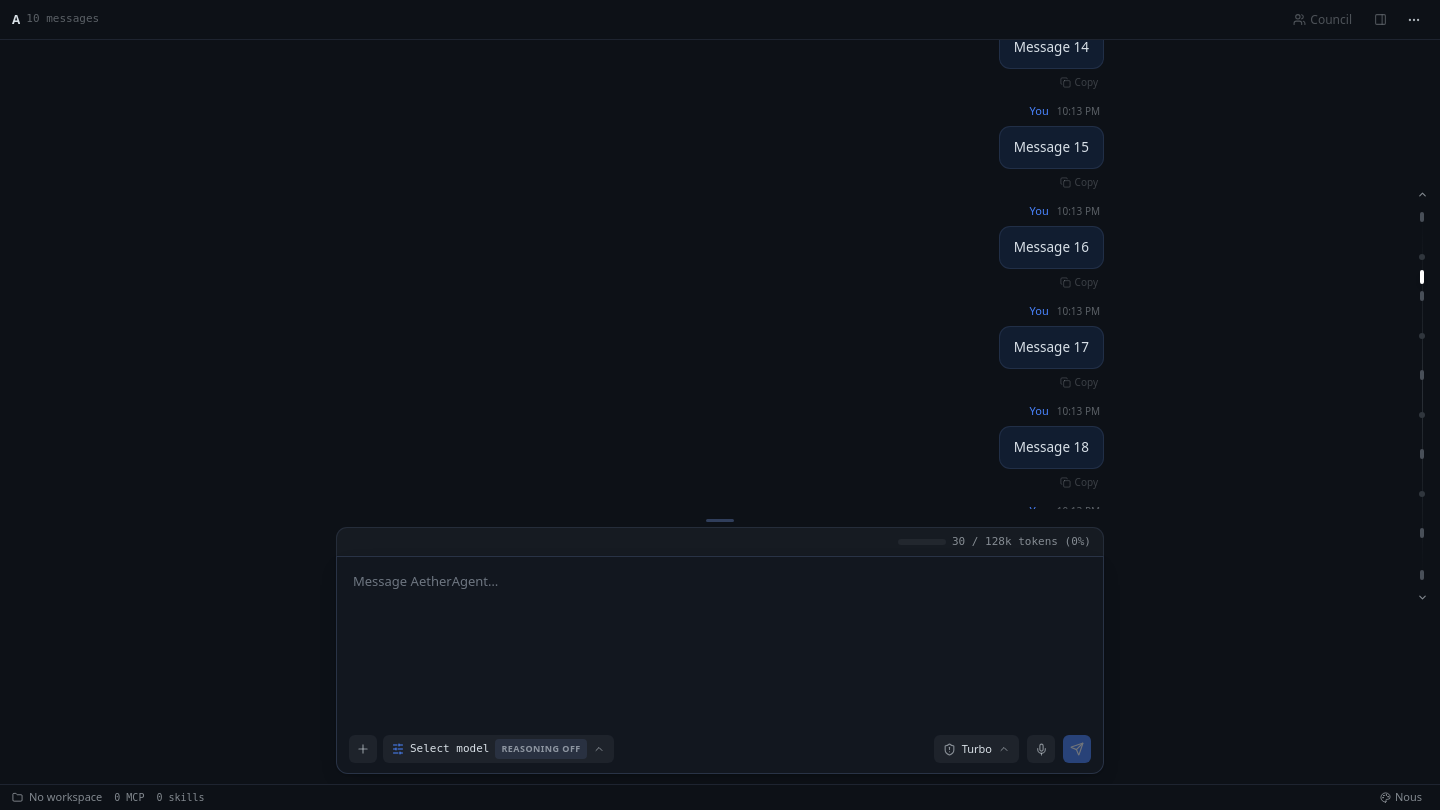
Test: opens floating search bar on Ctrl+F and navigates search matches
(page scrolled)
Press f
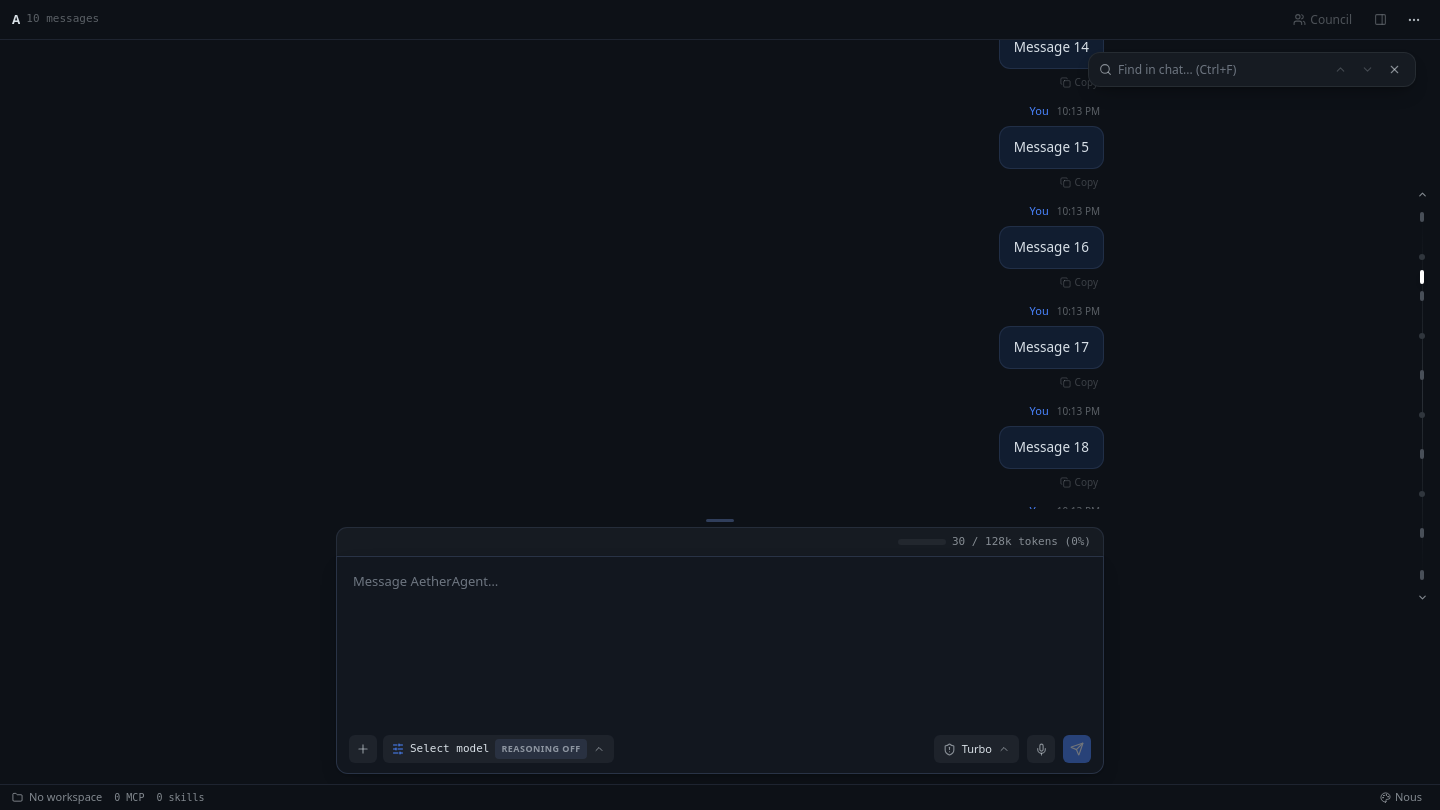
Check: the element with test id "in-chat-search-bar" is shown, box [1088,52,1416,87]
Type "Message 12" into the field with placeholder "Find in chat... (Ctrl+F)" at {"x": 1214, "y": 70}, box [1118,62,1310,78]
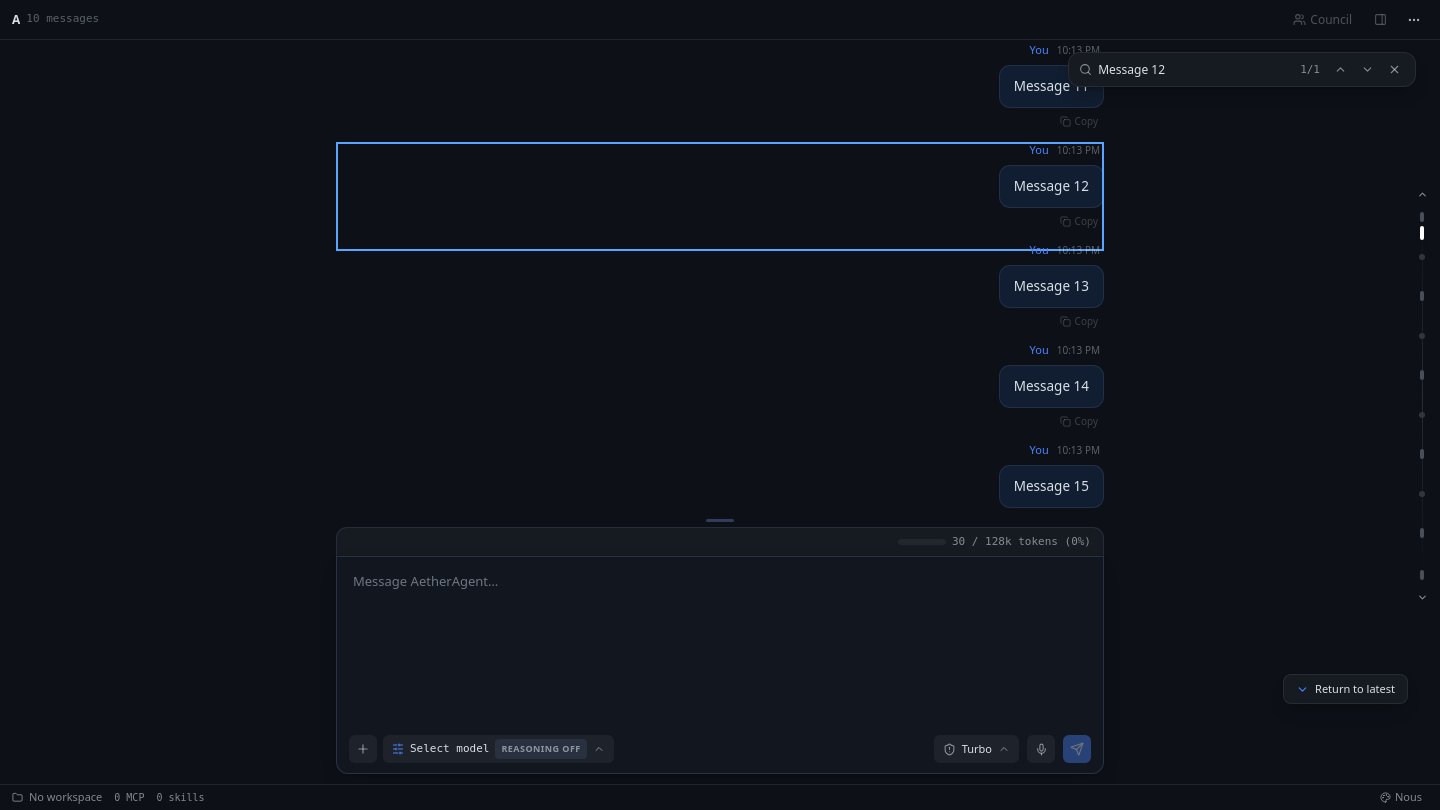
Check: the text "1/1" is shown, box [1300,62,1320,76]
Press Escape in the field with placeholder "Find in chat... (Ctrl+F)", box [1098,62,1290,78]
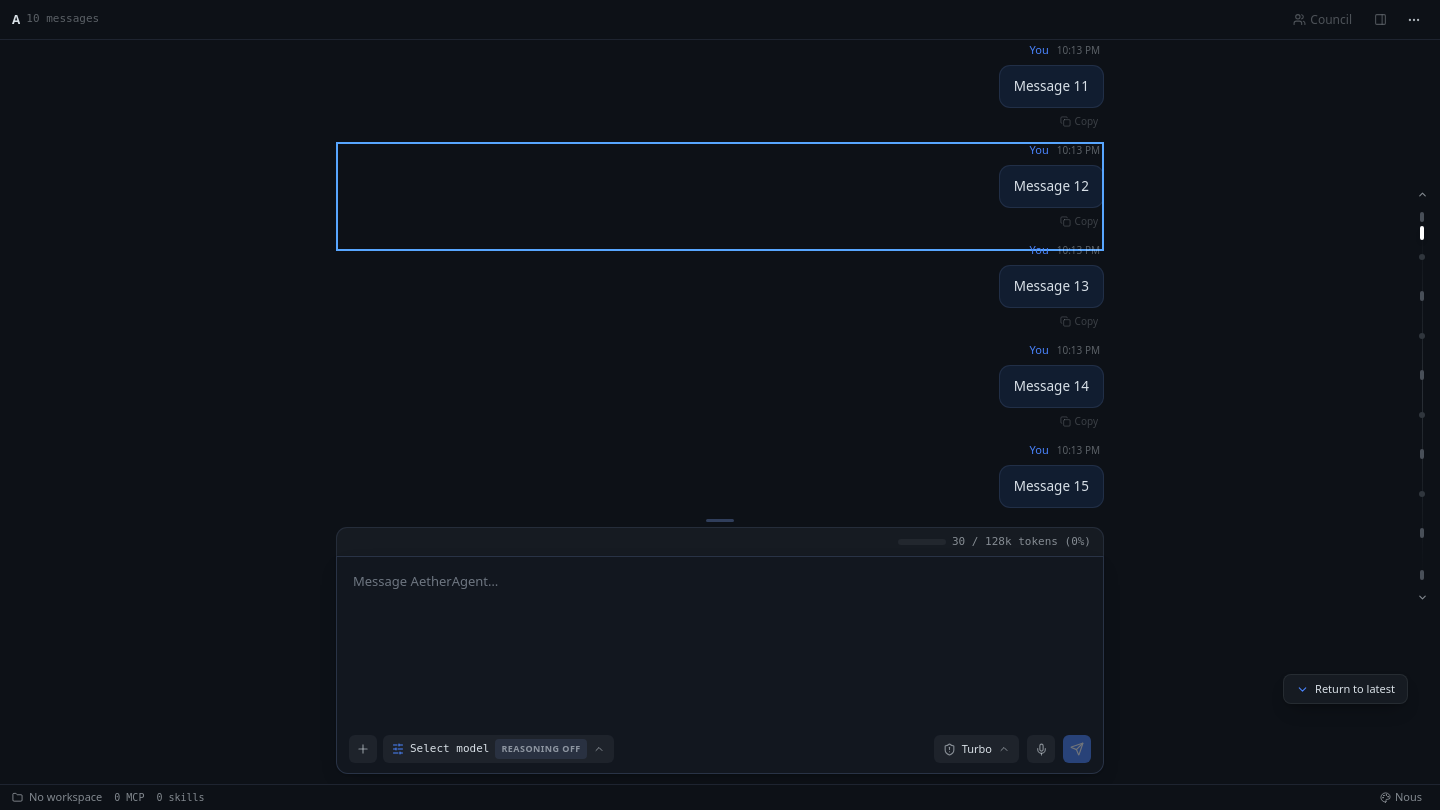
Check: the element with test id "in-chat-search-bar" is gone
